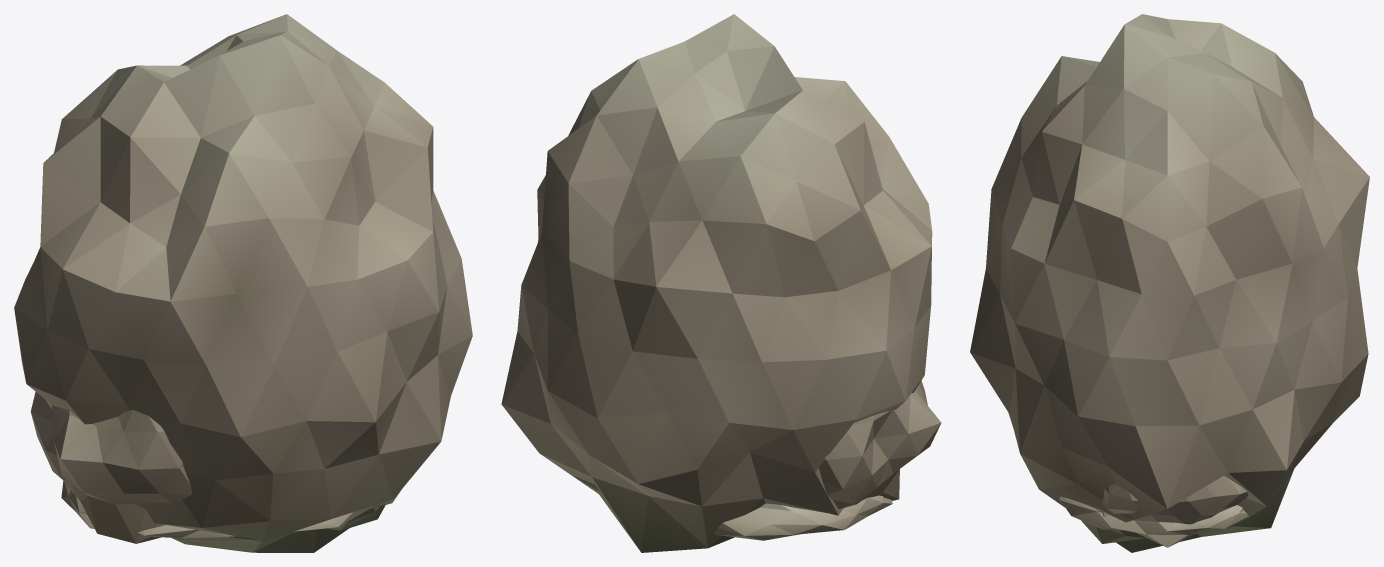
Rendered from rock_pack.glb.
3 views of the same model, side by side, from view 1: azimuth 30°, elevation 25°; view 2: azimuth 150°, elevation 25°; view 3: azimuth 270°, elevation 25° (orthographic). The views are drawn at different scales.
Visible parts, largest first — view 1: prop_rock_boulder_large_01, prop_rock_outcrop_hollow_01, prop_rock_slab_flat_01; view 2: prop_rock_boulder_large_01, prop_rock_outcrop_hollow_01, prop_rock_slab_flat_01; view 3: prop_rock_boulder_large_01, prop_rock_outcrop_hollow_01, prop_rock_slab_flat_01, prop_rock_boulder_mossy_01.
Part boxes in pixels (<box>): prop_rock_boulder_large_01: <box>14,14,472,552</box>; prop_rock_outcrop_hollow_01: <box>30,391,204,543</box>; prop_rock_slab_flat_01: <box>61,481,401,543</box>; prop_rock_boulder_large_01: <box>501,14,932,552</box>; prop_rock_outcrop_hollow_01: <box>819,380,941,508</box>; prop_rock_slab_flat_01: <box>573,476,892,540</box>; prop_rock_boulder_large_01: <box>970,14,1369,552</box>; prop_rock_outcrop_hollow_01: <box>1100,476,1247,524</box>; prop_rock_slab_flat_01: <box>1058,496,1248,547</box>; prop_rock_boulder_mossy_01: <box>1081,511,1146,543</box>.
Size of the model in its own units: 1.31 by 1.61 by 1.14.
